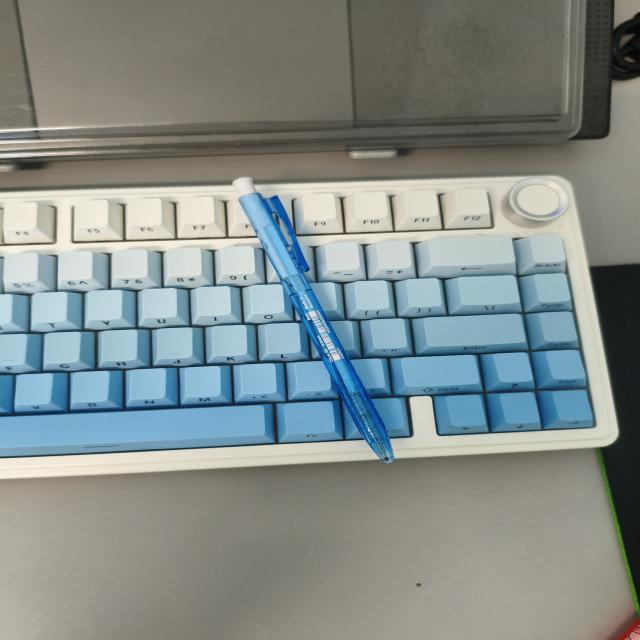pen: (233, 177, 394, 462)
